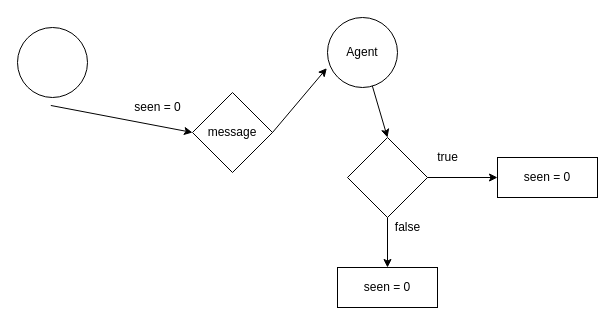
The diagram is 615 pixels wide and 325 high, and some of its shapes have lost their labels. Here are the shapes that lost their labels. From the top down, the centre of each, then its label:
At (52,62): "customer".
At (387,177): "open = ??".
